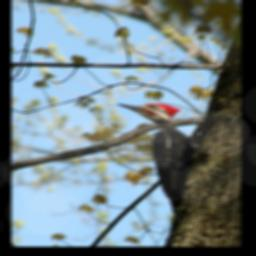Woodpecker: (112, 101, 202, 215)
